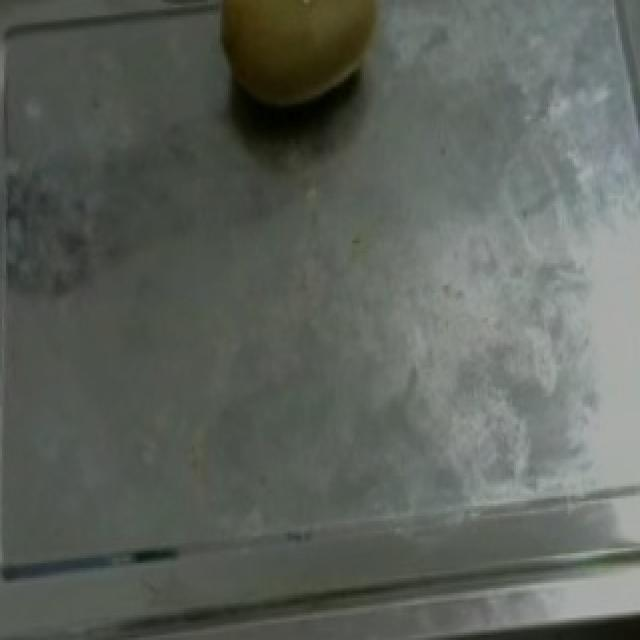Fruit: (198, 0, 416, 117)
